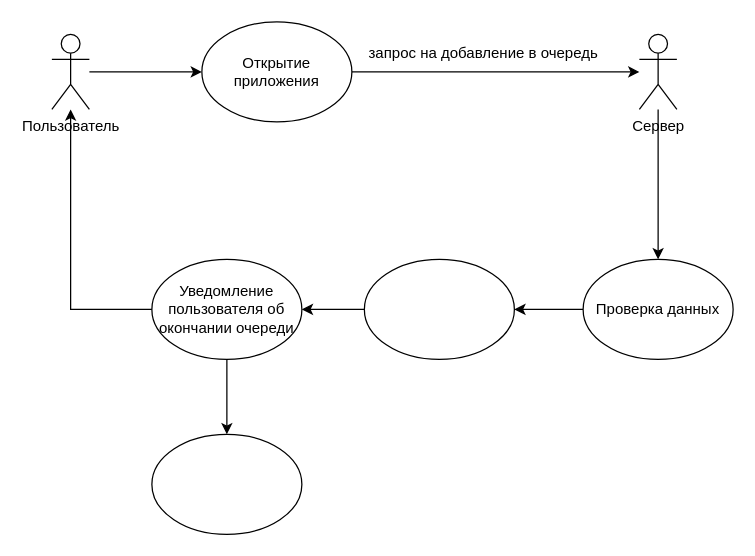
The diagram is 755 pixels wide and 556 high, and some of its shapes have lost their labels. Each missing label, with the centre of its shape:
"Добавление в очередь" goes at point 438,308.
"Удаление пользователя из очереди" goes at point 226,483.
